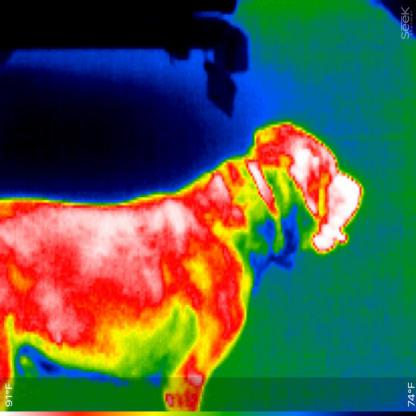dog: (0, 118, 367, 411)
